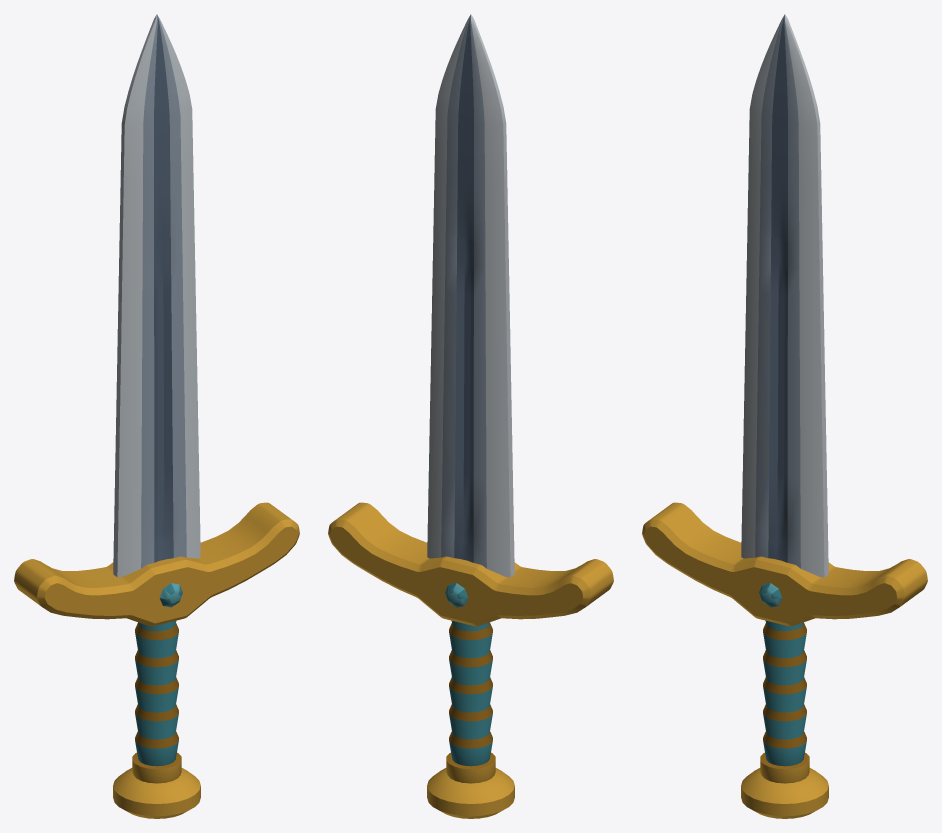
File: Longsword_04.glb
3 views of the same model, side by side, from view 1: azimuth 30°, elevation 25°; view 2: azimuth 150°, elevation 25°; view 3: azimuth 330°, elevation 25° (orthographic).
Visible parts, largest first — view 1: Longsword_04; view 2: Longsword_04; view 3: Longsword_04.
Boxes of the visible parts, box(x1,y1,x2,y2) form: Longsword_04: box(14, 14, 299, 818); Longsword_04: box(328, 14, 613, 818); Longsword_04: box(642, 14, 927, 818).
Size of the model in its own units: 2.41 by 6.92 by 0.6968.
